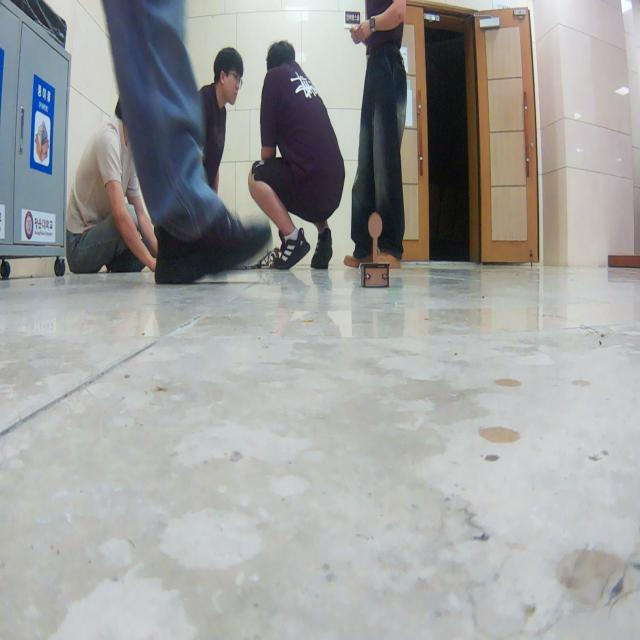target: (361, 211, 390, 288)
